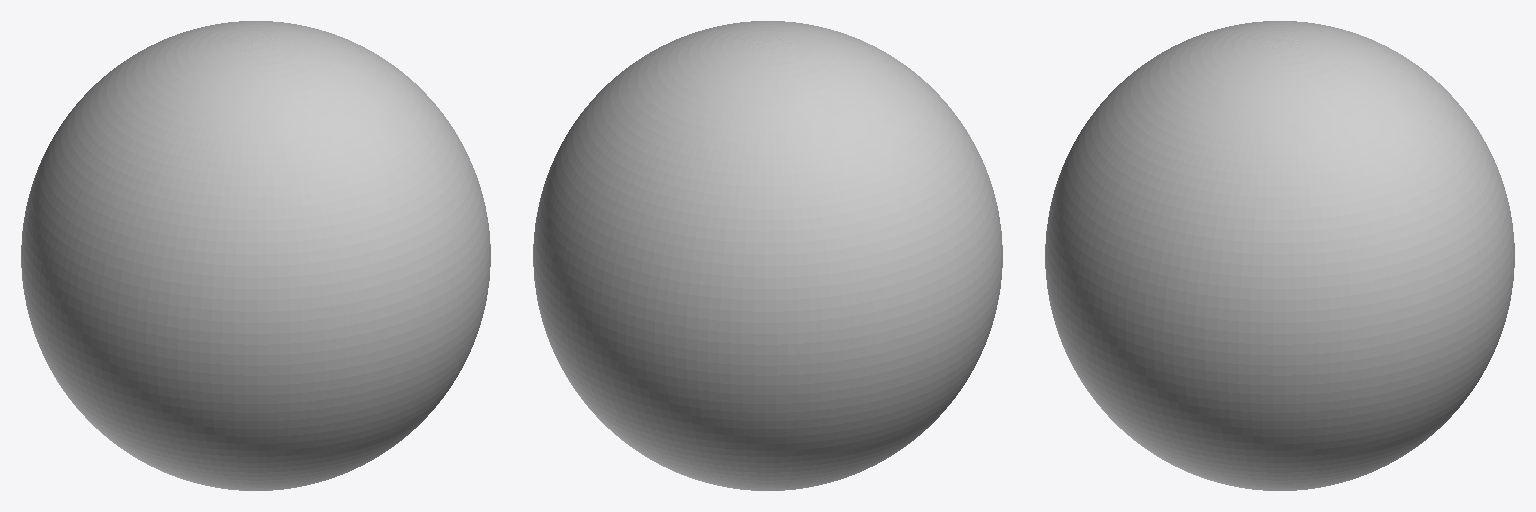
File: moon.obj
The picture shows the model from 3 angles: view 1: azimuth 30°, elevation 25°; view 2: azimuth 150°, elevation 25°; view 3: azimuth 270°, elevation 25°; orthographic projection.
Visible parts, largest first — view 1: Sphere_Sphere.001; view 2: Sphere_Sphere.001; view 3: Sphere_Sphere.001.
Boxes of the visible parts, <box> form: Sphere_Sphere.001: <box>21,21,490,490</box>; Sphere_Sphere.001: <box>533,21,1002,490</box>; Sphere_Sphere.001: <box>1045,21,1514,490</box>.
Bounding box in the file's own units: 1.99 × 2 × 1.99.